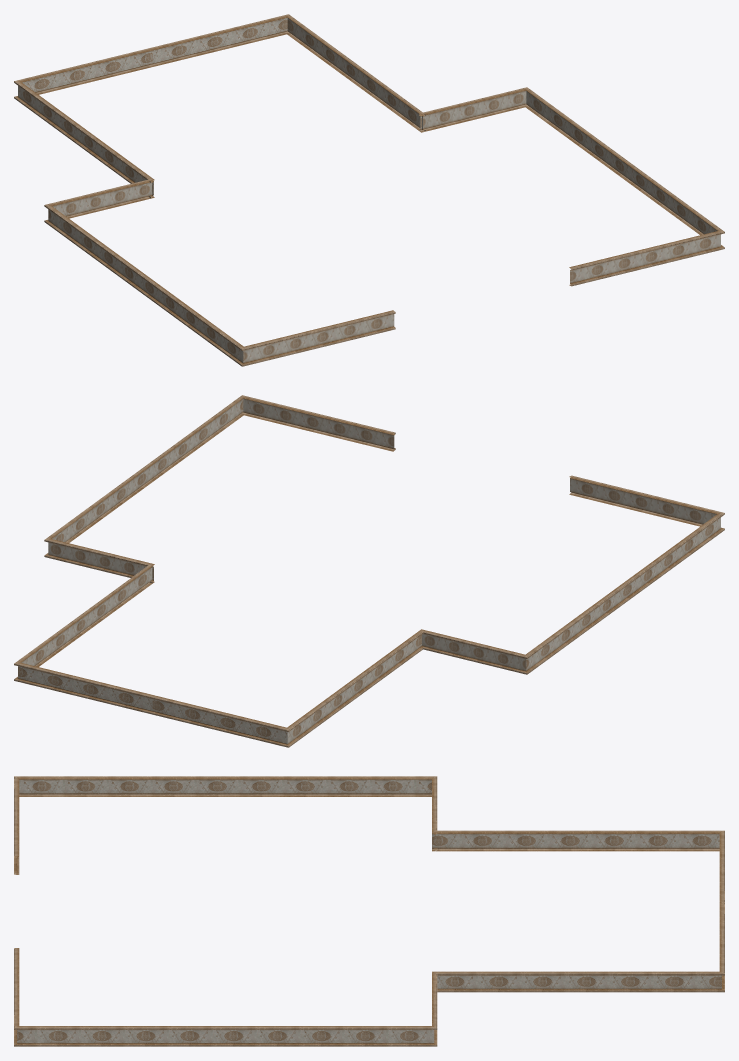
The model's file is Launch_Building_Coon_Exterior_Joint1.001.glb.
3 views of the same model, one above another, from view 1: azimuth 30°, elevation 25°; view 2: azimuth 150°, elevation 25°; view 3: azimuth 270°, elevation 25° (orthographic). The views are drawn at different scales.
Visible parts, largest first — view 1: Launch_Building_Coon_Exterior_Joint1.001; view 2: Launch_Building_Coon_Exterior_Joint1.001; view 3: Launch_Building_Coon_Exterior_Joint1.001.
Boxes of the visible parts, x1,y1,x2,y2 form: Launch_Building_Coon_Exterior_Joint1.001: [14, 14, 724, 366]; Launch_Building_Coon_Exterior_Joint1.001: [14, 395, 724, 747]; Launch_Building_Coon_Exterior_Joint1.001: [14, 776, 724, 1046].
Bounding box in the file's own units: 29.16 × 1.02 × 34.75.
1 material, 1 textured.
